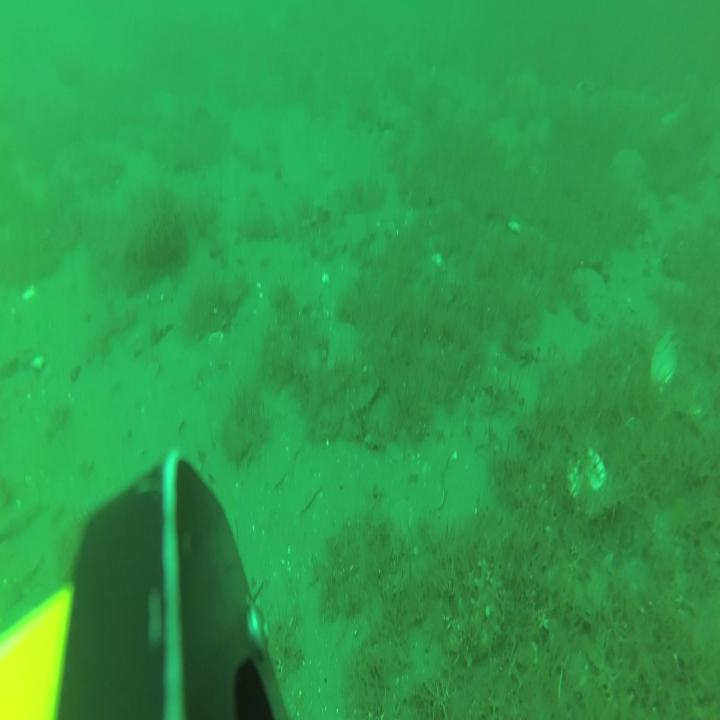scallop: (566, 444, 606, 516), (649, 328, 678, 394), (572, 265, 606, 315), (150, 275, 172, 303), (208, 328, 224, 356)
starfish: (610, 147, 646, 180)
